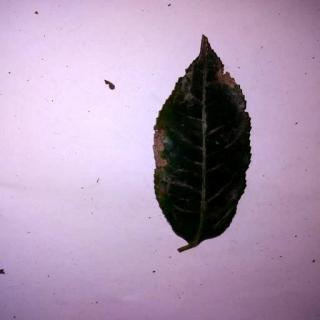Anthracnose: (153, 34, 253, 251)
